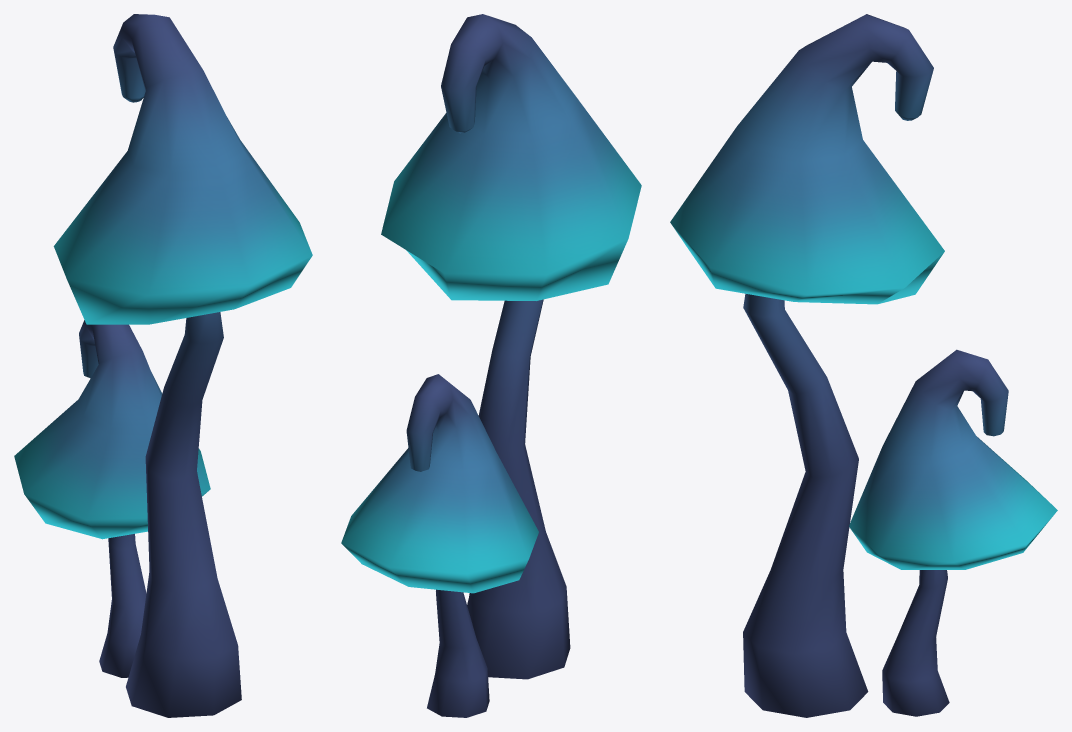
File: mushrooms9.fbx
The picture shows the model from 3 angles, left to right: view 1: azimuth 30°, elevation 25°; view 2: azimuth 150°, elevation 25°; view 3: azimuth 270°, elevation 25°; orthographic projection. The views are drawn at different scales.
Visible parts, largest first — view 1: mushrooms9; view 2: mushrooms9; view 3: mushrooms9.
Part boxes in pixels (box(x1,y1,x2,y2)): mushrooms9: box(14, 14, 312, 717); mushrooms9: box(341, 14, 641, 717); mushrooms9: box(670, 14, 1057, 717).
Bounding box in the file's own units: 277 × 772 × 388.
Materials: 1 (1 with a texture image).
